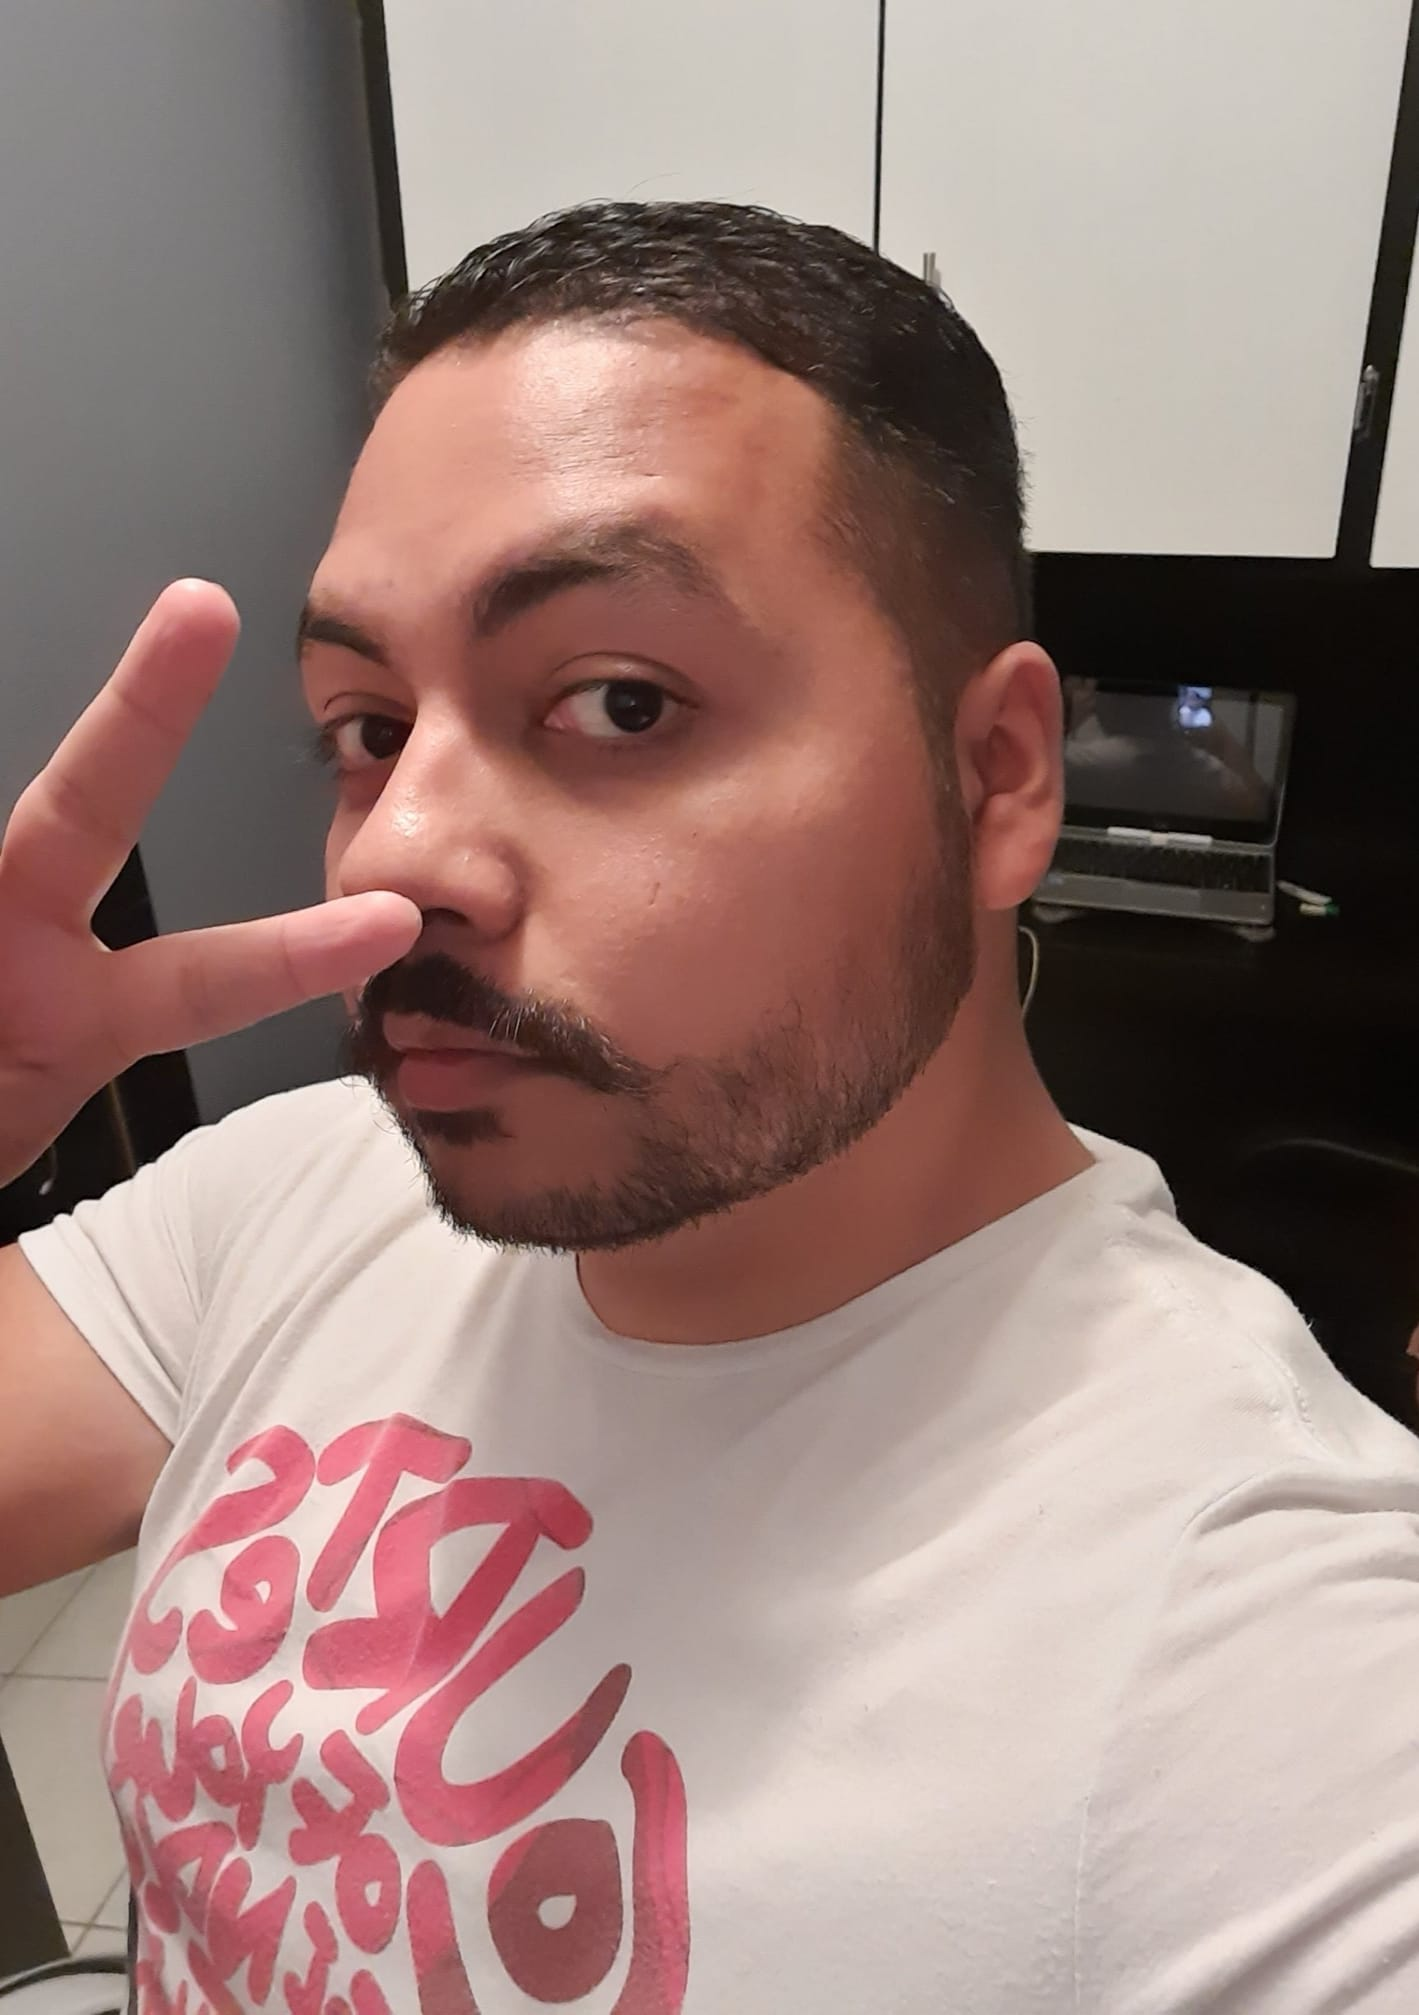Yoshi: (63, 146, 1204, 1649)
